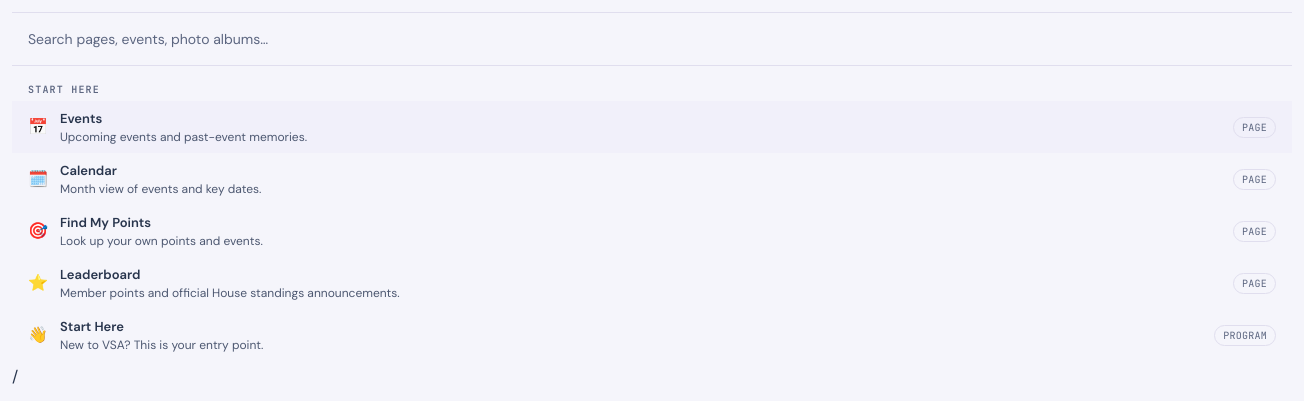
Scenario: PublicSearchPanel (dialog variant) › moves with the arrow keys and opens the active result with Enter
Type "reveal" into the dropdown at (652, 39), box [12,12,1292,66]
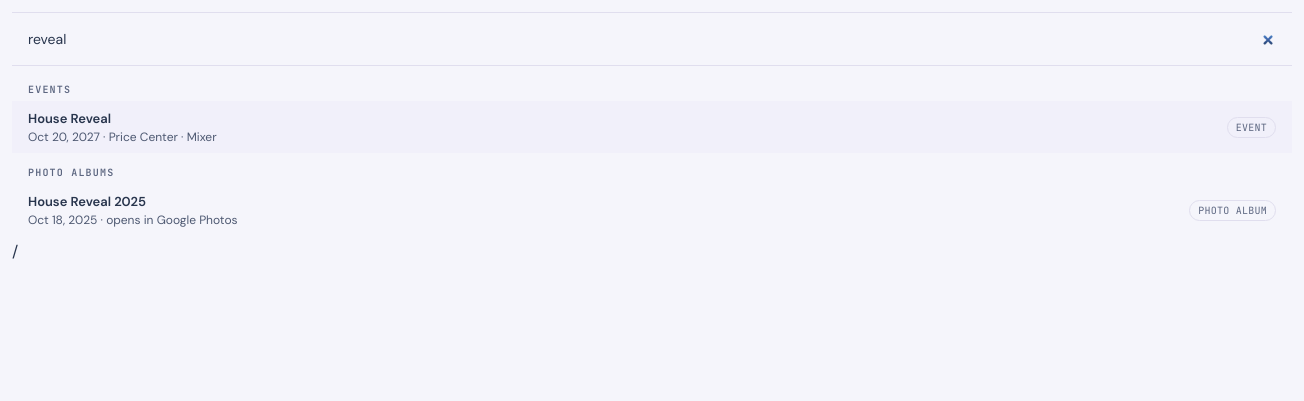
Expected: the option "House Reveal 2025" is shown, [12,184,1292,236]
Press Arrowdown
Expected: the option "House Reveal 2025" is shown, [12,184,1292,236]
Press Arrowup
Press Enter
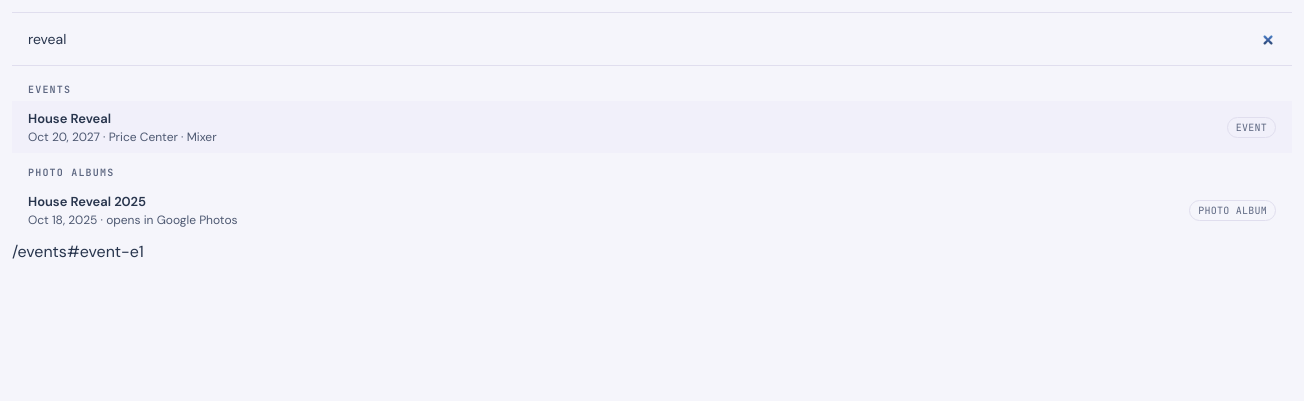
Expected: the text with test id "location" reads "/events#event-e1", [12,241,144,262]
